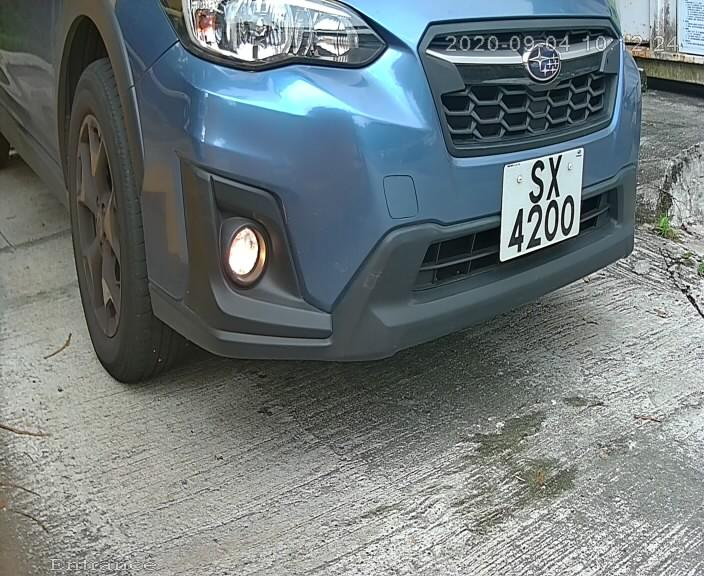Car: (19, 1, 698, 409)
License Plate: (486, 135, 600, 280)
